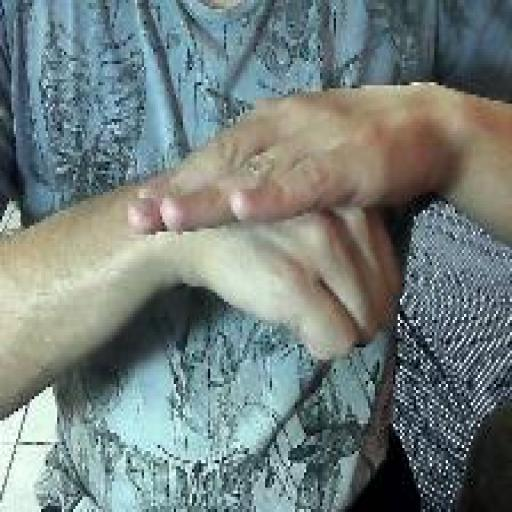Inu -dog-: (124, 81, 409, 364)
